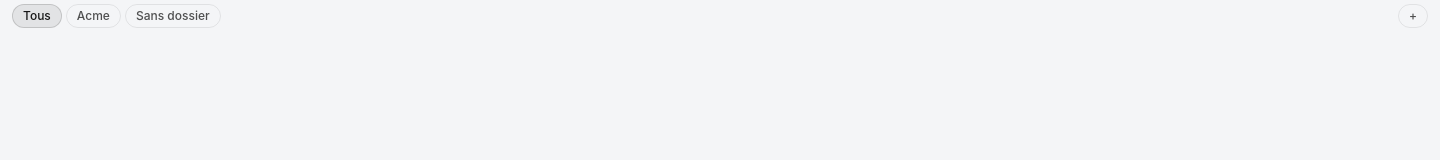
Test case: selects a folder first, then opens its menu
The width and height of the screenshot is (1440, 160).
Step 1. Click the button "Acme" → coordinates (93, 16), box left=66, top=4, right=121, bottom=28
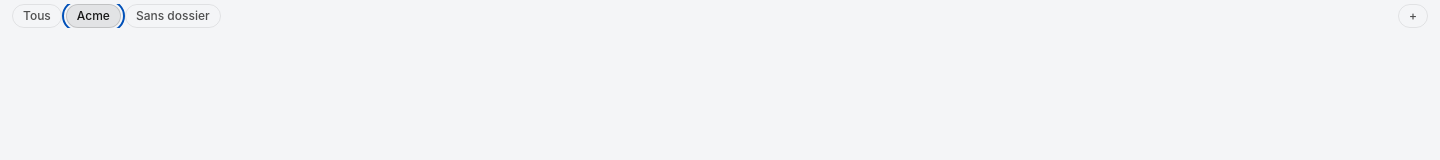
Now the button "Acme" is pressed
Step 2. Click the button "Acme" → coordinates (93, 16), box left=66, top=4, right=121, bottom=28
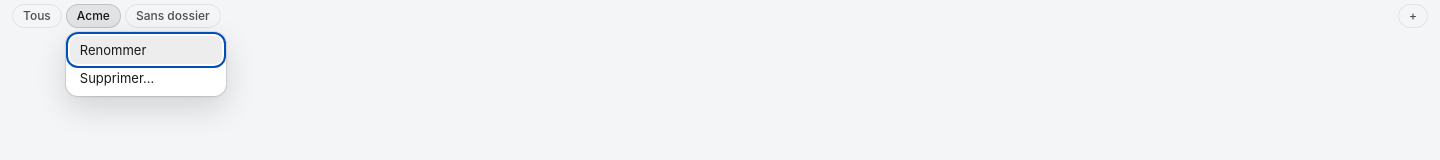
Now the menu item "Supprimer…" is shown, box left=70, top=64, right=222, bottom=92
